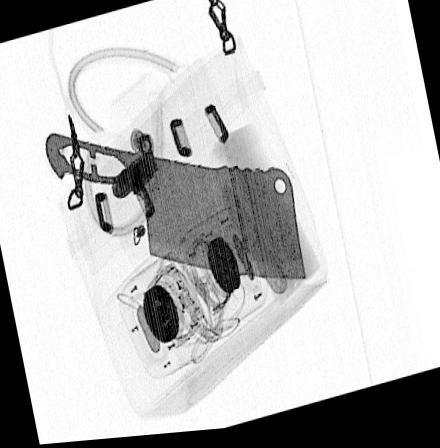Knife: (43, 133, 306, 286)
